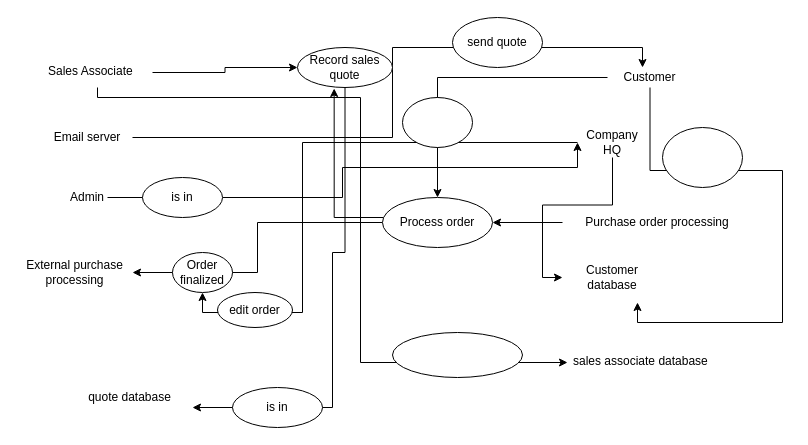
Image size: 808x445. Some labels were removed from this diagram. Here are the shapes that lost their labels. From the top down, the centre of each, then its label:
At point 437,122: "places order".
At point 702,157: "added to".
At point 457,355: "has info in".
